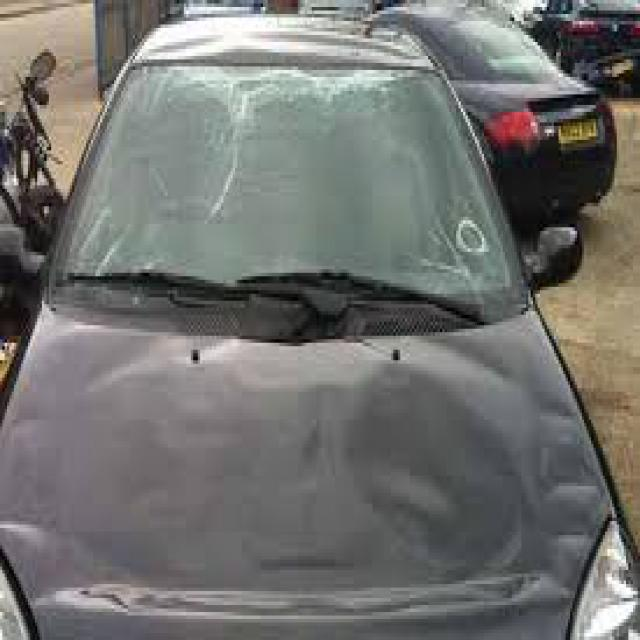Front-Windscreen-Damage: (42, 42, 568, 318)
bonnet-dent: (12, 305, 598, 637)
